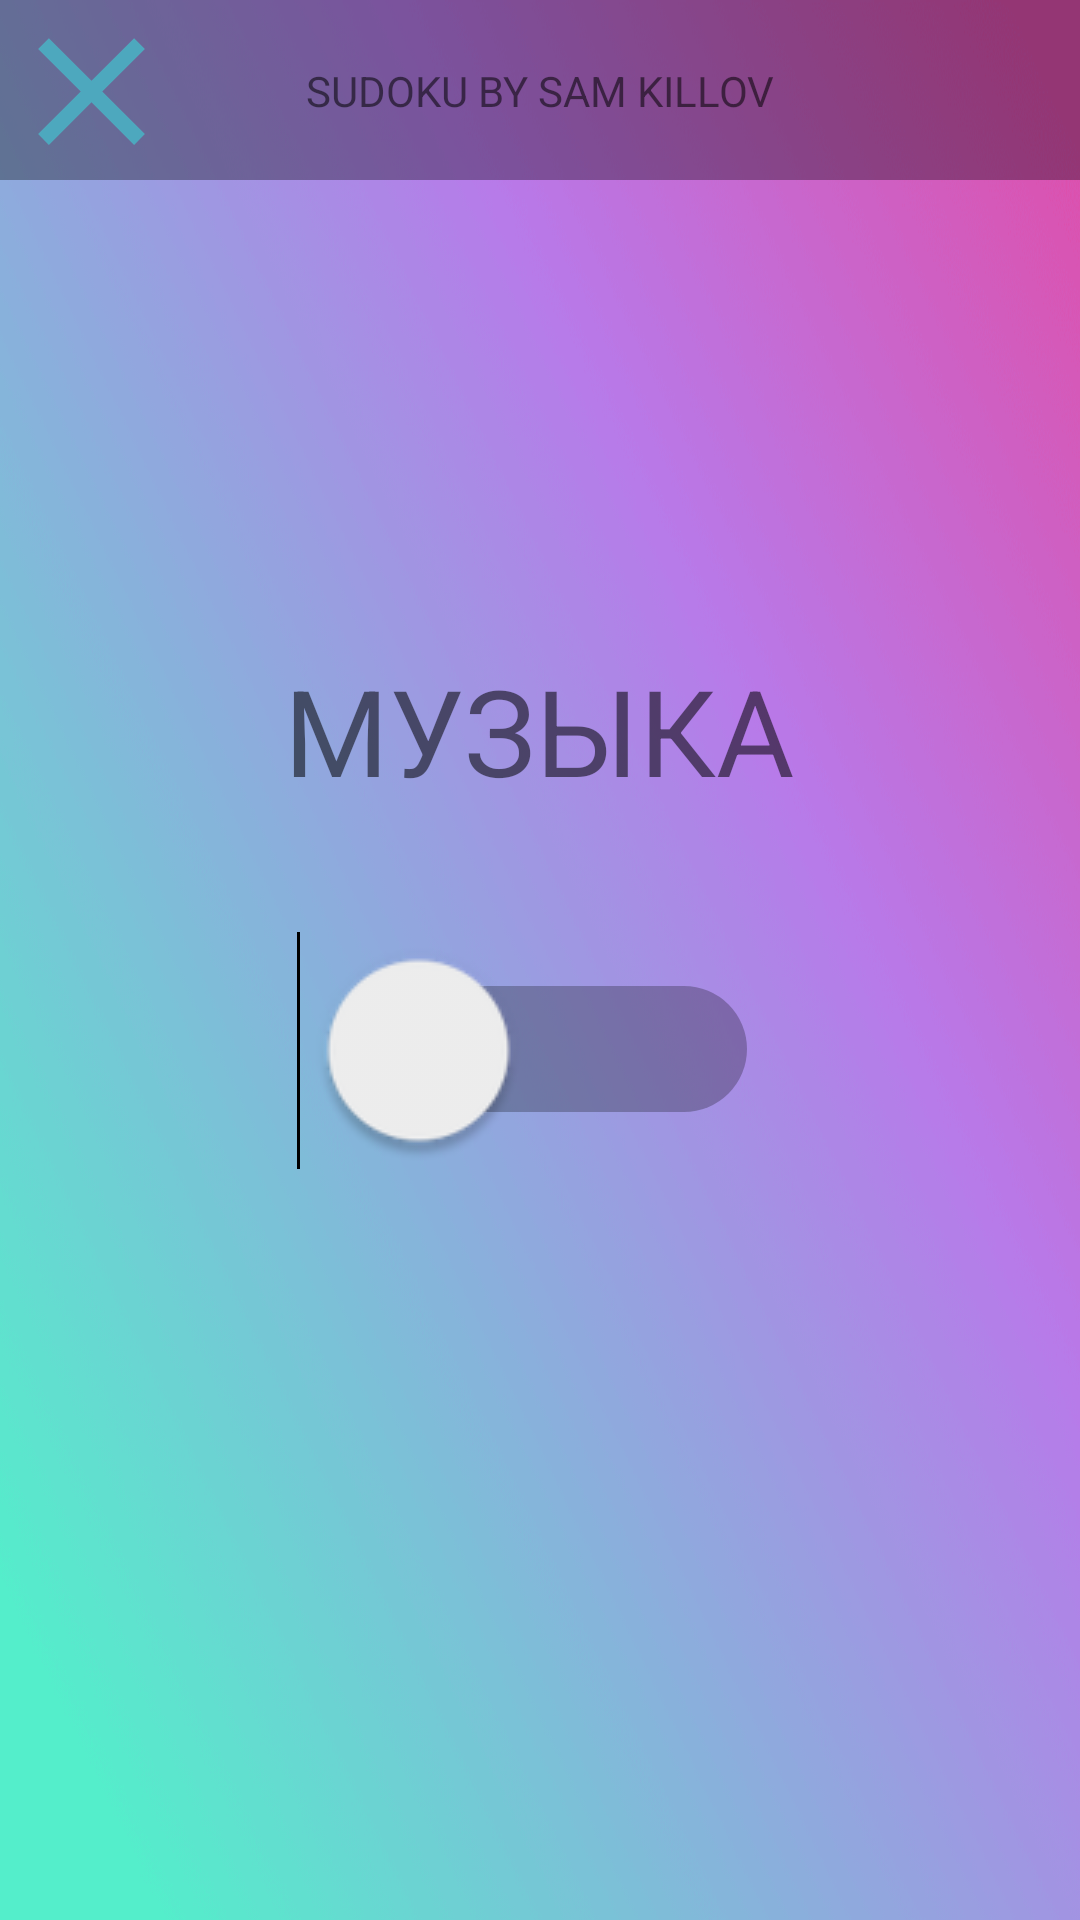

Point at icon controls on the screen. Image size 1080x1920, points as (x=x, y=y).
close: (x=91, y=91)
